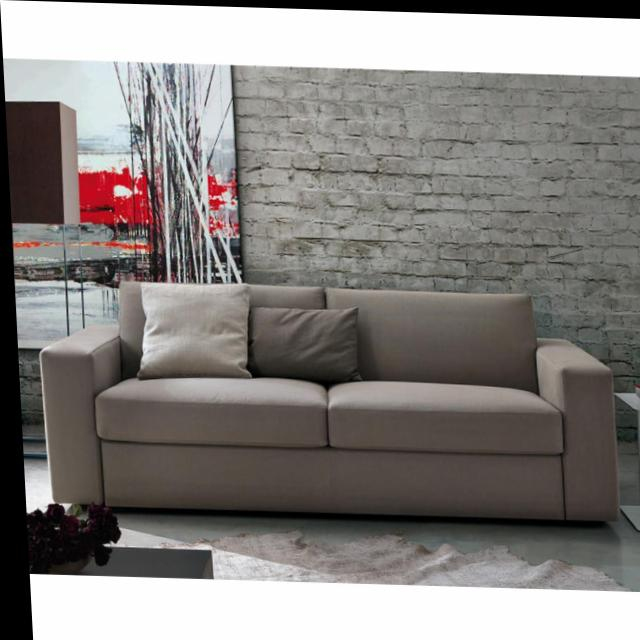Sofa: (30, 277, 617, 520)
